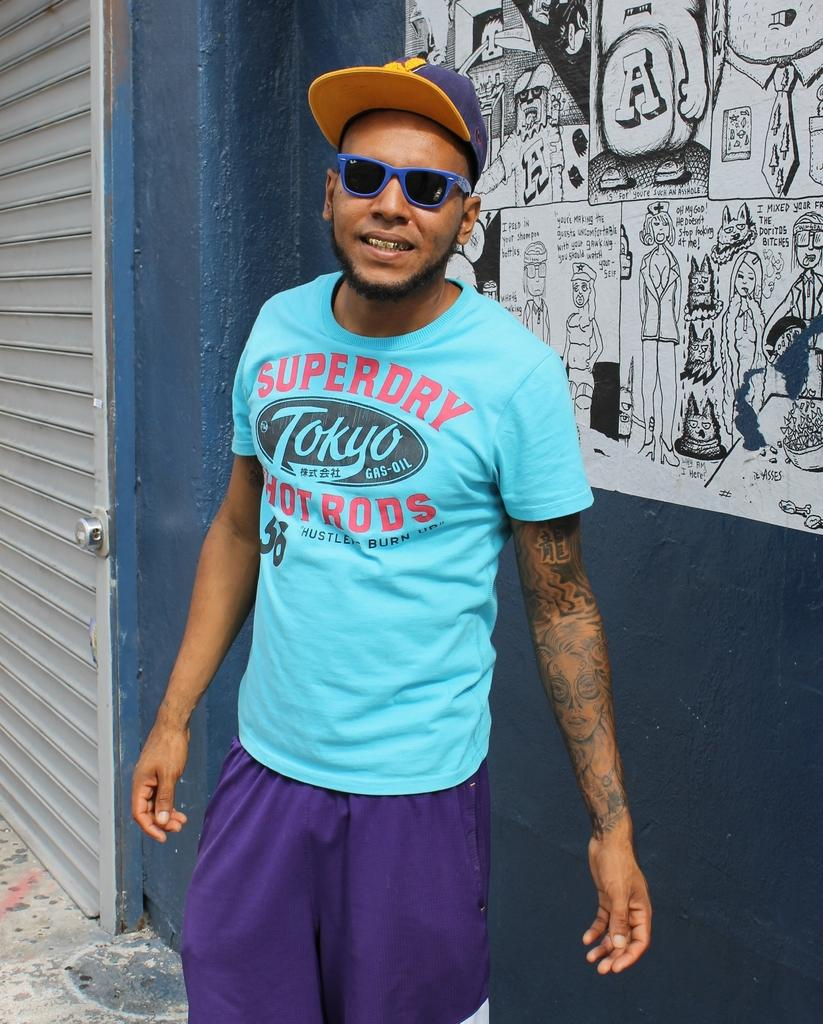Hat: (302, 54, 491, 184), (570, 262, 592, 280)
